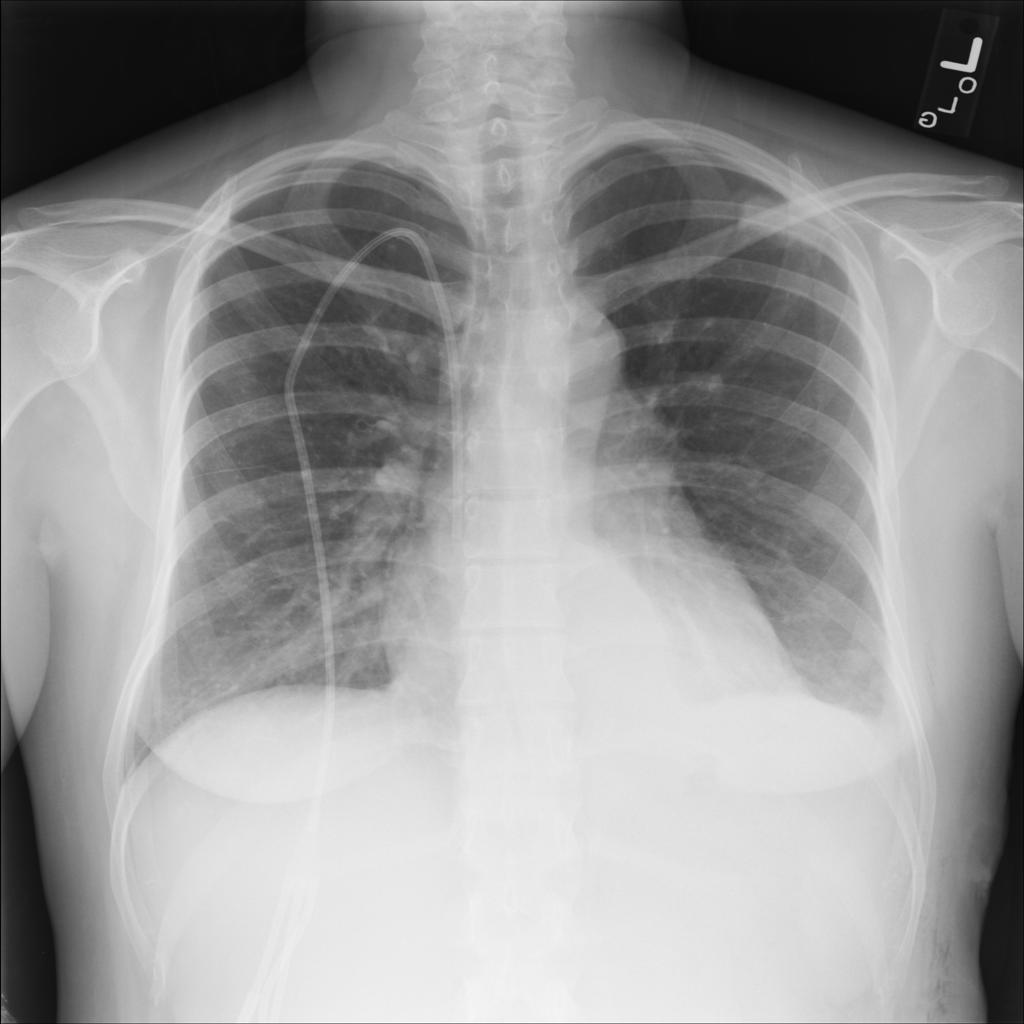nodule: (815, 628, 893, 694), (682, 358, 740, 403)
